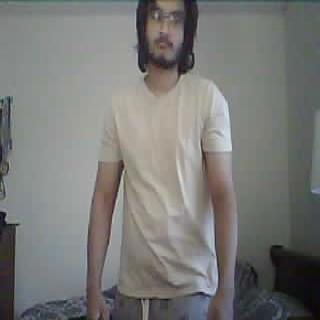Yellow T-Shirt: (98, 74, 238, 301)
